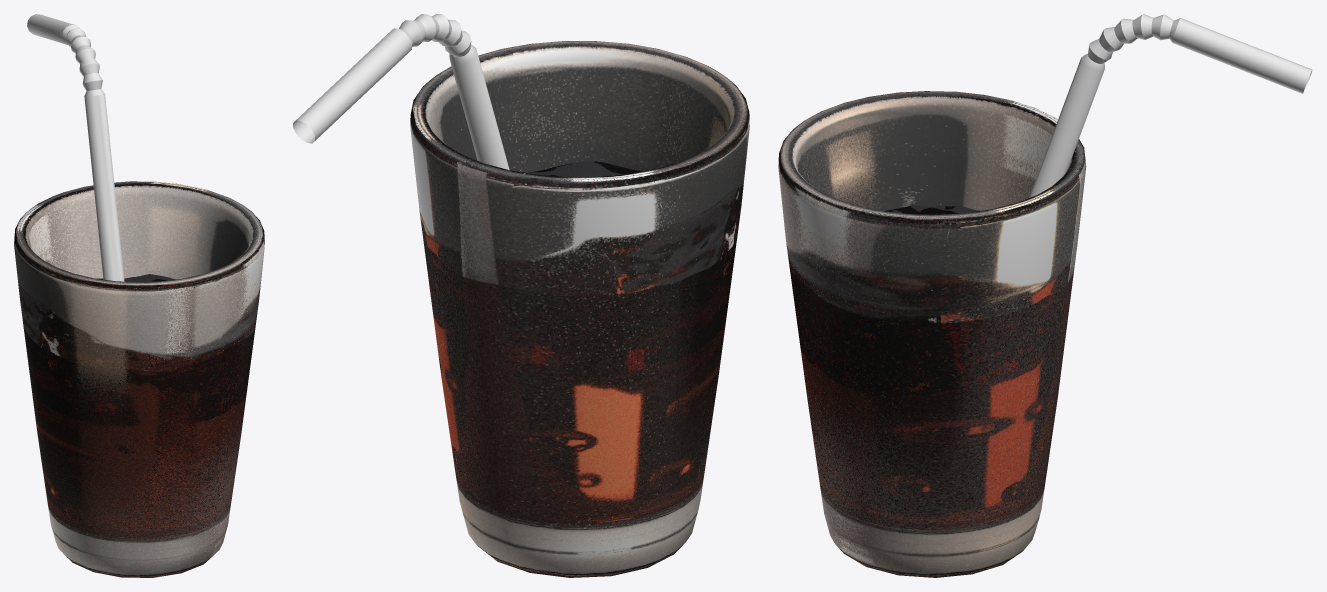
File: soda.fbx
The picture shows the model from 3 angles, left to right: view 1: azimuth 30°, elevation 25°; view 2: azimuth 150°, elevation 25°; view 3: azimuth 270°, elevation 25°; orthographic projection. The views are drawn at different scales.
Visible parts, largest first — view 1: Cube, Plane.004; view 2: Cube, Plane.004, Circle; view 3: Cube, Plane.004.
Part boxes in pixels (x1,y1,x2,y2): Cube: (14,181,264,577); Plane.004: (27,14,124,281); Cube: (410,41,749,577); Plane.004: (293,14,509,169); Circle: (528,161,641,177); Cube: (778,91,1086,577); Plane.004: (1029,14,1312,197).
Size of the model in its own units: 67.96 by 132 by 118.
2 materials, 2 textured.
